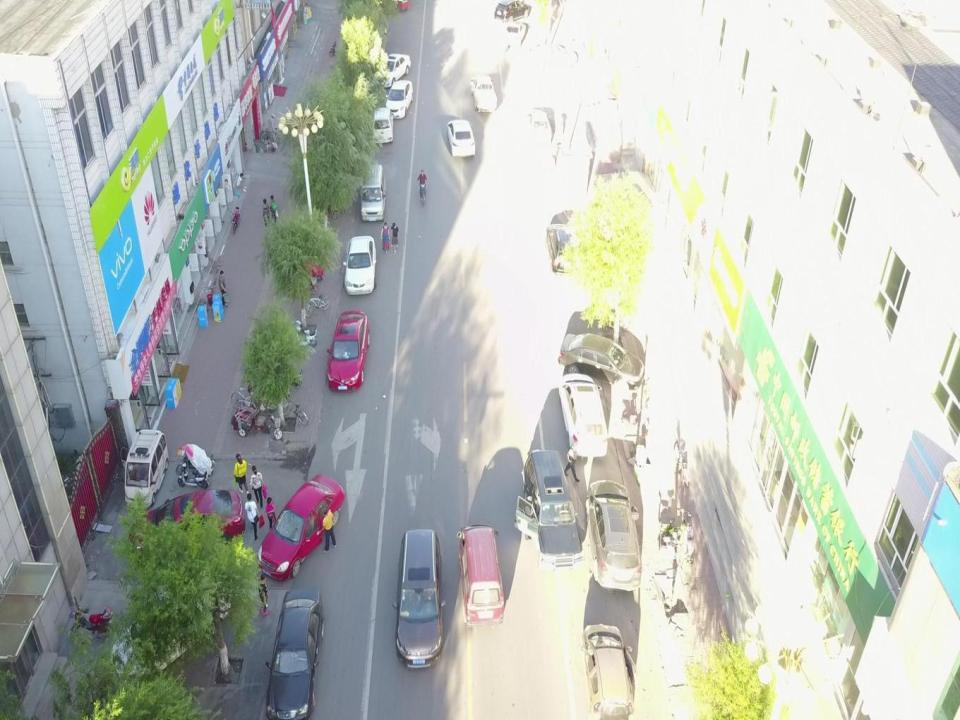car: (112, 579, 232, 688), (256, 473, 344, 580), (515, 449, 582, 571), (130, 491, 243, 562), (265, 591, 324, 720), (394, 528, 444, 669), (584, 479, 641, 589), (559, 332, 645, 392), (583, 622, 635, 720), (558, 373, 608, 459), (327, 310, 370, 390), (342, 236, 376, 295), (545, 225, 575, 274), (386, 80, 413, 120), (380, 52, 410, 88), (446, 120, 475, 156), (525, 106, 551, 142), (494, 0, 529, 23), (370, 108, 392, 143), (504, 20, 528, 47)
truck: (469, 74, 497, 112)
van: (458, 525, 506, 625), (119, 429, 168, 507), (360, 165, 386, 223)
